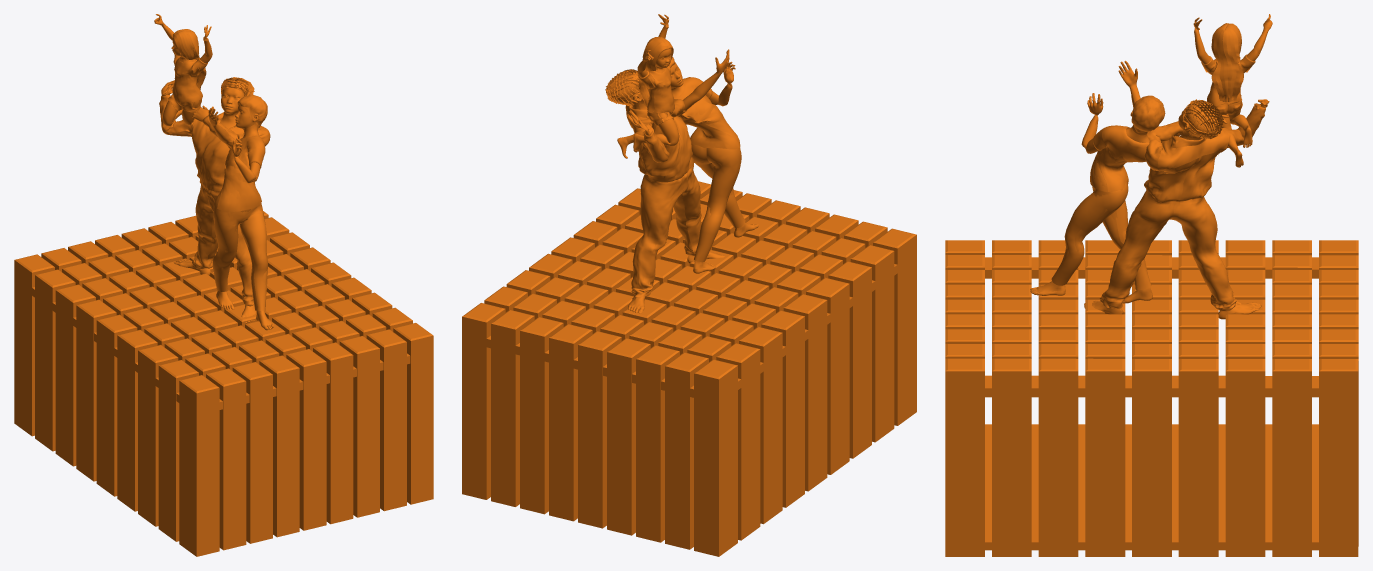
The model's file is tuong_khang_chien_k.gltf.
The picture shows the model from 3 angles, left to right: view 1: azimuth 30°, elevation 25°; view 2: azimuth 150°, elevation 25°; view 3: azimuth 270°, elevation 25°; orthographic projection. The views are drawn at different scales.
Visible parts, largest first — view 1: Knife_Block_Small, Male_young_model2:Female_casualsuit01, Male_young_model2_new:Male_casualsuit01, Male_young_model2:Body, Female_children_model2:Female_casualsuit02, Male_young_model2_new:Body, Female_children_model2:Body, Female_children_model2:Long01, Male_young_model2:Short02; view 2: Knife_Block_Small, Male_young_model2_new:Male_casualsuit01, Male_young_model2:Female_casualsuit01, Male_young_model2:Body, Female_children_model2:Body, Female_children_model2:Female_casualsuit02, Male_young_model2_new:Afro01, Male_young_model2_new:Body, Female_children_model2:Long01; view 3: Knife_Block_Small, Male_young_model2_new:Male_casualsuit01, Male_young_model2:Female_casualsuit01, Male_young_model2:Body, Female_children_model2:Long01, Female_children_model2:Body, Male_young_model2_new:Afro01, Male_young_model2_new:Body, Male_young_model2:Short02, Female_children_model2:Female_casualsuit02.
Boxes of the visible parts, left/top/right/bottom form: Knife_Block_Small: left=14, top=211, right=433, bottom=556; Male_young_model2:Female_casualsuit01: left=212, top=135, right=267, bottom=310; Male_young_model2_new:Male_casualsuit01: left=159, top=94, right=270, bottom=306; Male_young_model2:Body: left=208, top=106, right=273, bottom=330; Female_children_model2:Female_casualsuit02: left=168, top=55, right=207, bottom=112; Male_young_model2_new:Body: left=161, top=80, right=256, bottom=323; Female_children_model2:Body: left=154, top=14, right=212, bottom=125; Female_children_model2:Long01: left=173, top=29, right=206, bottom=89; Male_young_model2:Short02: left=237, top=94, right=267, bottom=128; Knife_Block_Small: left=462, top=181, right=916, bottom=556; Male_young_model2_new:Male_casualsuit01: left=625, top=99, right=710, bottom=296; Male_young_model2:Female_casualsuit01: left=675, top=77, right=745, bottom=262; Male_young_model2:Body: left=670, top=49, right=758, bottom=273; Female_children_model2:Body: left=617, top=14, right=679, bottom=158; Female_children_model2:Female_casualsuit02: left=638, top=65, right=674, bottom=126; Male_young_model2_new:Afro01: left=605, top=69, right=639, bottom=107; Male_young_model2_new:Body: left=626, top=94, right=724, bottom=313; Female_children_model2:Long01: left=638, top=37, right=673, bottom=105; Knife_Block_Small: left=945, top=240, right=1358, bottom=556; Male_young_model2_new:Male_casualsuit01: left=1099, top=105, right=1265, bottom=311; Male_young_model2:Female_casualsuit01: left=1051, top=125, right=1151, bottom=290; Male_young_model2:Body: left=1030, top=60, right=1159, bottom=303; Female_children_model2:Long01: left=1211, top=23, right=1243, bottom=102; Female_children_model2:Body: left=1193, top=14, right=1272, bottom=167; Male_young_model2_new:Afro01: left=1182, top=99, right=1224, bottom=138; Male_young_model2_new:Body: left=1084, top=99, right=1269, bottom=319; Male_young_model2:Short02: left=1131, top=95, right=1165, bottom=132; Female_children_model2:Female_casualsuit02: left=1201, top=54, right=1255, bottom=115.
Size of the model in its own units: 15 by 25.41 by 20.
